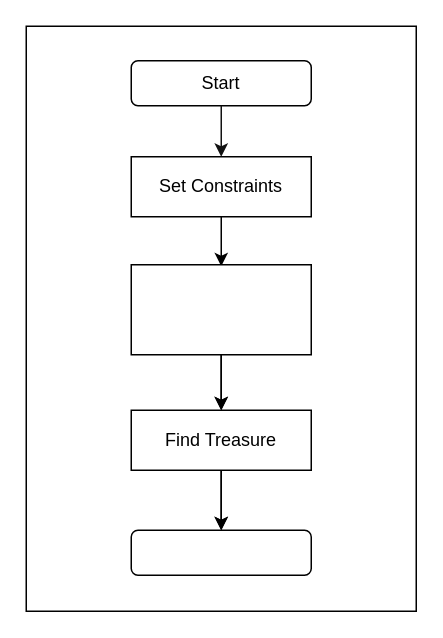
Some shapes in this 443 by 638 pixel diagram are drawn without their labels. The shapes that lost their labels are listed below. From the top down, each one's box as (x1, y1, x2, y2) in pixels, then its label:
(130, 263, 311, 355): Read Map (Two Dimensions Array)
(130, 529, 311, 575): End
